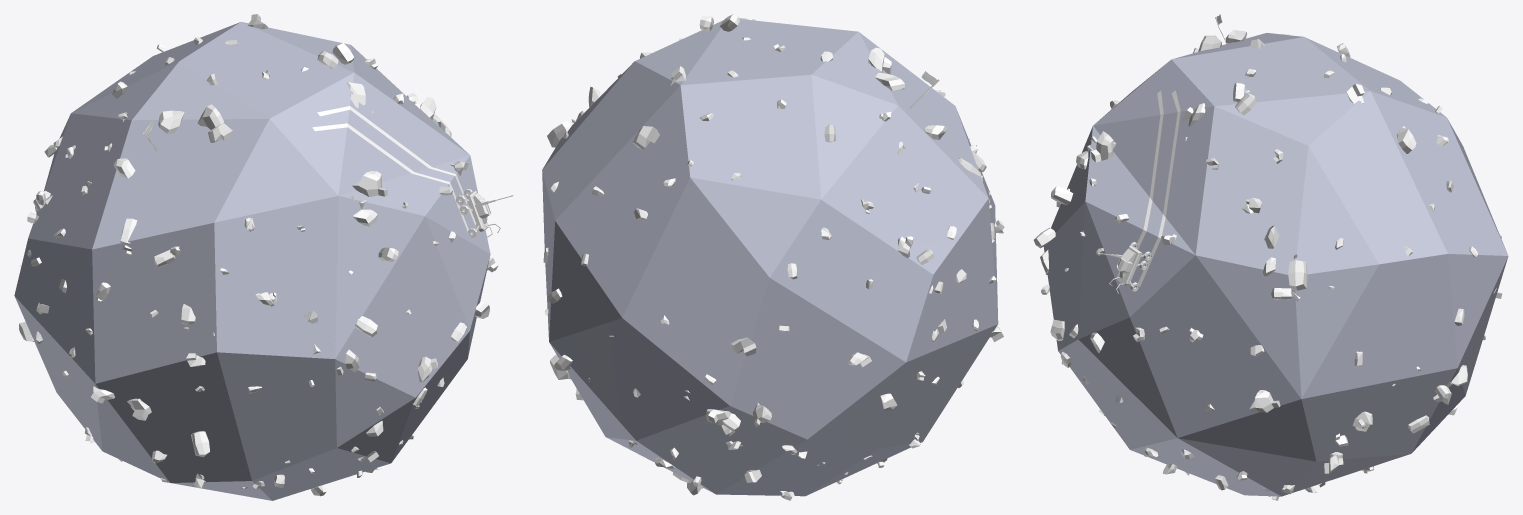
The model's file is rockPlanet2.glb.
3 views of the same model, side by side, from view 1: azimuth 30°, elevation 25°; view 2: azimuth 150°, elevation 25°; view 3: azimuth 270°, elevation 25° (orthographic). The views are drawn at different scales.
Parts seen in each view (by area): view 1: planet.002, planet.003; view 2: planet.002, planet.003; view 3: planet.002, planet.003.
Boxes of the visible parts, left/top/right/bottom form: planet.002: left=14, top=19, right=512, bottom=500; planet.003: left=19, top=14, right=513, bottom=489; planet.002: left=542, top=14, right=1003, bottom=499; planet.003: left=543, top=18, right=1004, bottom=500; planet.002: left=1033, top=30, right=1508, bottom=500; planet.003: left=1040, top=14, right=1501, bottom=426.
Size of the model in its own units: 13.89 by 13.8 by 14.43.
